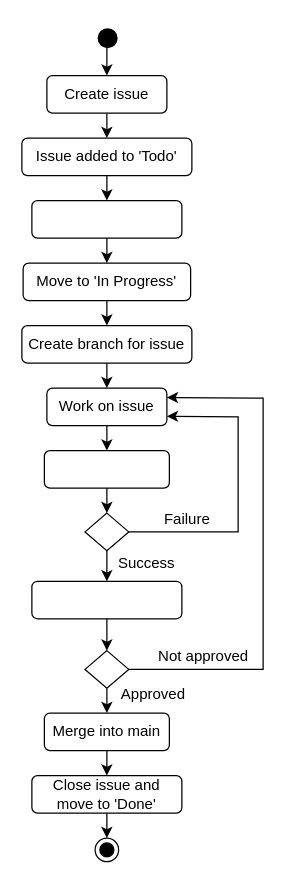
Image size: 295x884. Some labels were removed from this diagram. The shapes that lost their labels are listed below. From the top down, each one's centre as x and y in pixels, then its label:
At pixel 106 218: "Assign responsible".
At pixel 106 468: "Write/Run tests".
At pixel 106 599: "Create/Update pull request".
